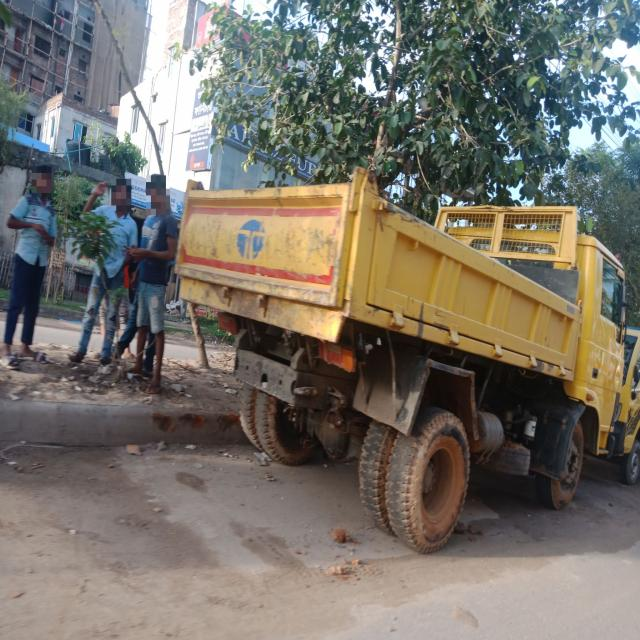truck: (169, 158, 627, 549)
